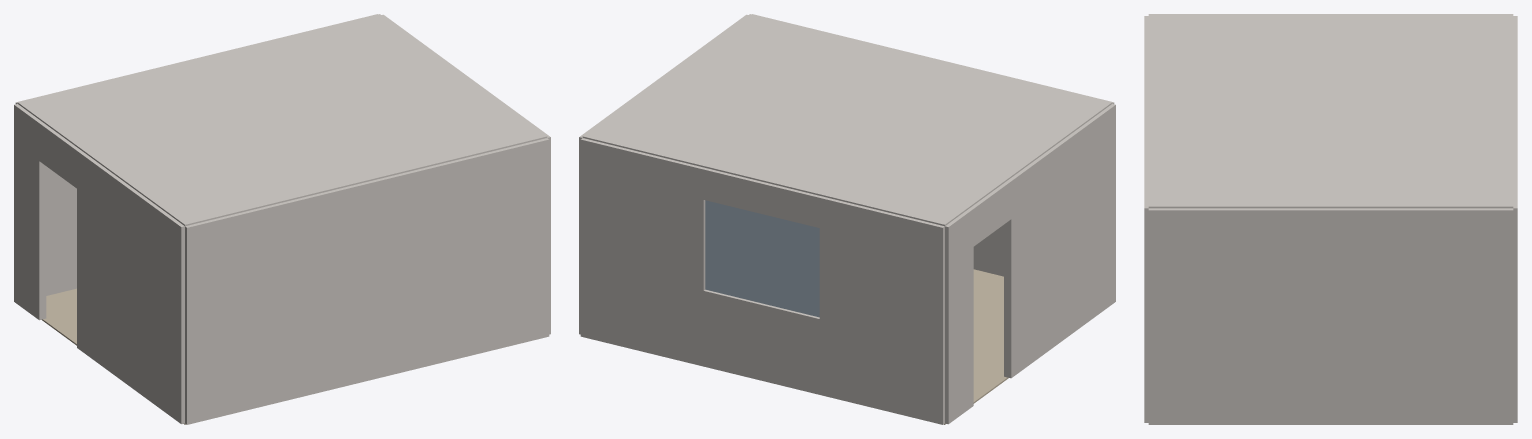
The model's file is item_room_bedroom.glb.
3 views of the same model, side by side, from view 1: azimuth 30°, elevation 25°; view 2: azimuth 150°, elevation 25°; view 3: azimuth 270°, elevation 25° (orthographic). The views are drawn at different scales.
Visible parts, largest first — view 1: item_room_bedroom; view 2: item_room_bedroom; view 3: item_room_bedroom.
Part boxes in pixels (x1,y1,x2,y2): item_room_bedroom: (14, 14, 550, 424); item_room_bedroom: (579, 14, 1115, 424); item_room_bedroom: (1144, 14, 1517, 424).
Size of the model in its own units: 5.1 by 2.64 by 4.1.
